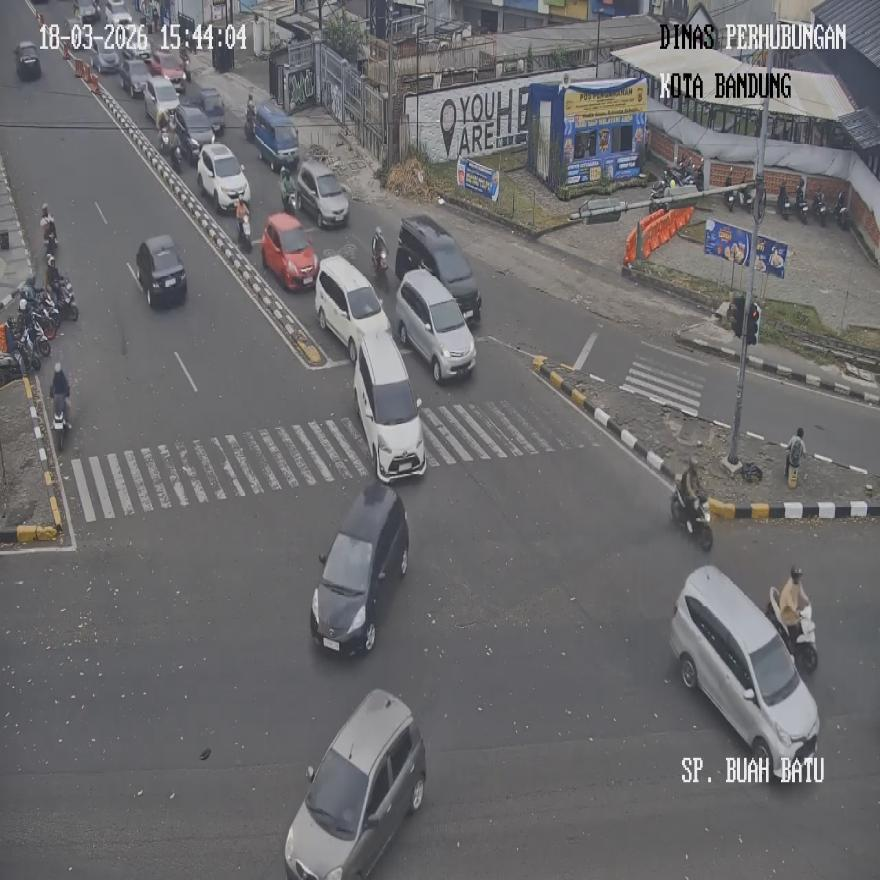Mobil: (668, 565, 819, 782), (284, 688, 426, 878), (309, 480, 408, 655), (354, 328, 426, 481), (395, 215, 481, 323), (394, 268, 475, 380), (315, 255, 390, 363), (262, 213, 318, 292), (136, 233, 186, 307)
Motor: (764, 586, 818, 672), (671, 485, 713, 551), (49, 272, 78, 322), (371, 225, 388, 291), (160, 125, 182, 171), (52, 395, 70, 451), (741, 181, 765, 220), (235, 198, 251, 252), (281, 168, 298, 216), (649, 178, 668, 214), (724, 166, 736, 212), (795, 184, 808, 223), (245, 93, 256, 139), (835, 190, 848, 228), (778, 182, 790, 221), (813, 191, 826, 226)
